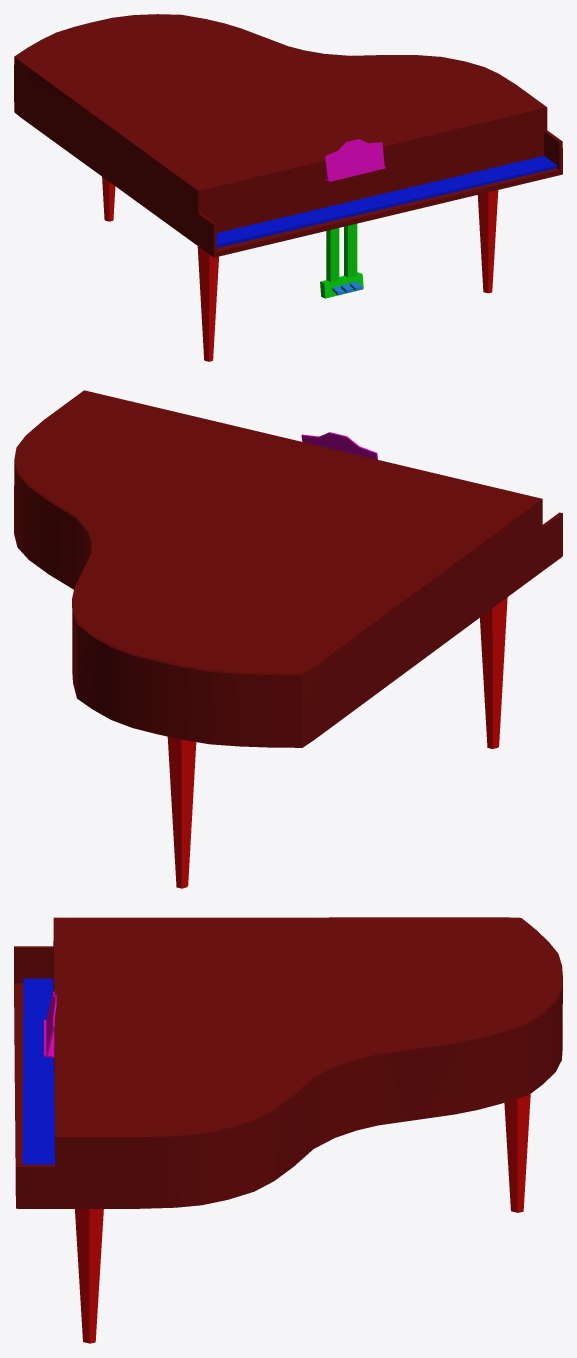
File: Piano_closed.fbx
3 renders of one model, top to bottom at view 1: azimuth 30°, elevation 25°; view 2: azimuth 150°, elevation 25°; view 3: azimuth 270°, elevation 25°, orthographic. The views are drawn at different scales.
Visible parts, largest first — view 1: piano; view 2: piano; view 3: piano.
Boxes of the visible parts, x1,y1,x2,y2 form: piano: (14,14,562,361); piano: (14,390,562,888); piano: (14,917,562,1343).
Bounding box in the file's own units: 455 × 244 × 485.
